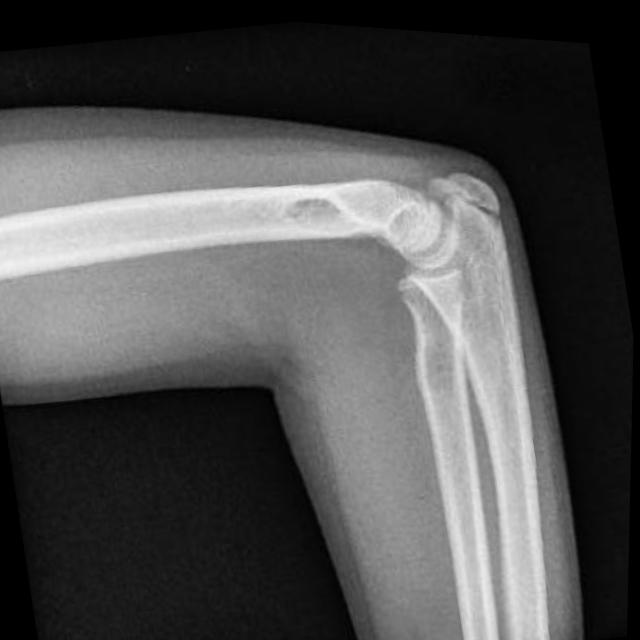fracture: (423, 133, 511, 223)
